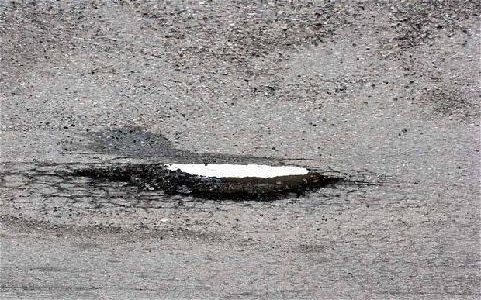pothole: (68, 158, 339, 207)
